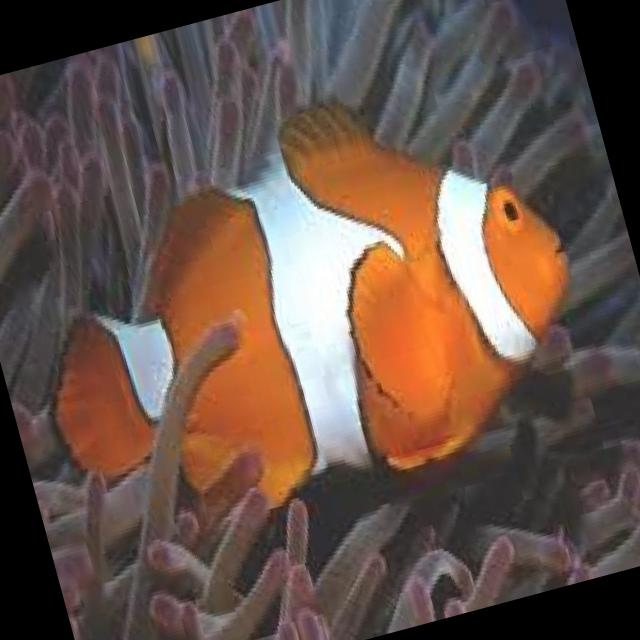ClownFish: (0, 49, 612, 558)
